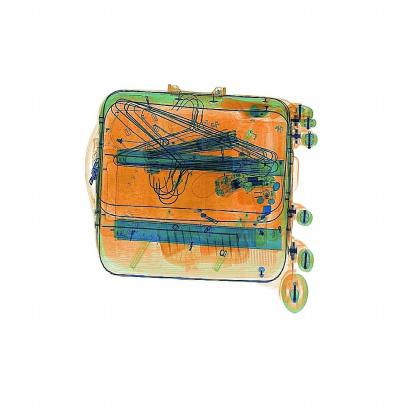wrench: (251, 194, 281, 229)
